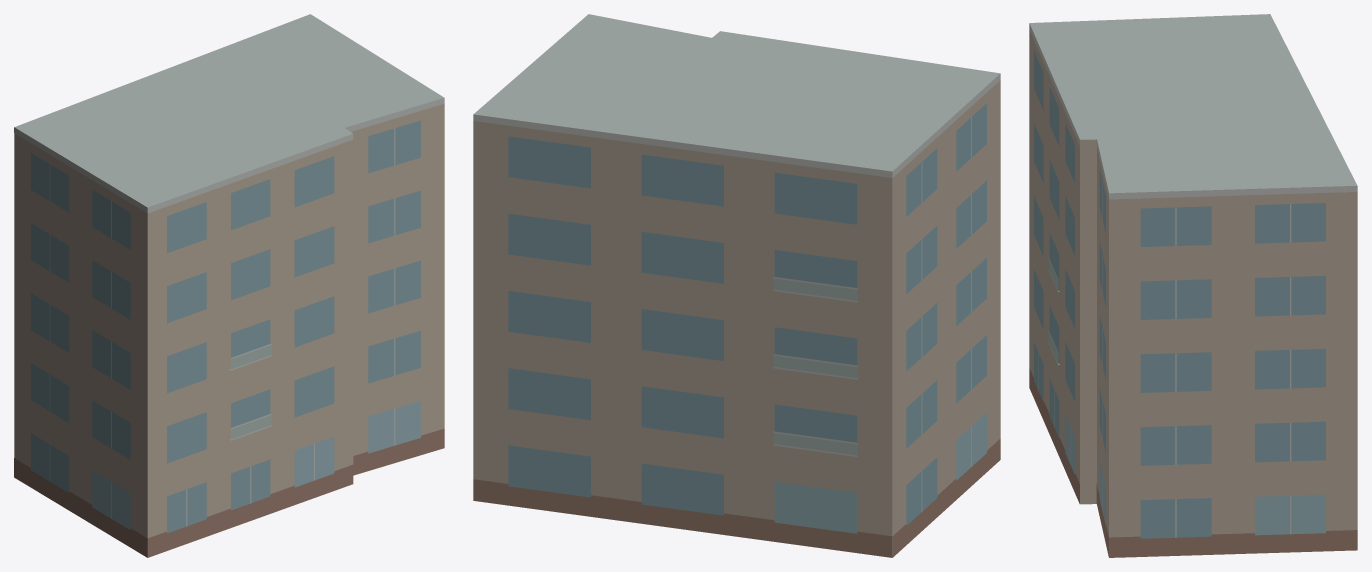
Rendered from survey-upis-32960786.glb.
The picture shows the model from 3 angles, left to right: view 1: azimuth 30°, elevation 25°; view 2: azimuth 150°, elevation 25°; view 3: azimuth 270°, elevation 25°; orthographic projection. The views are drawn at different scales.
Visible parts, largest first — view 1: survey-upis-32960786.tmp; view 2: survey-upis-32960786.tmp; view 3: survey-upis-32960786.tmp.
Boxes of the visible parts, bbox=[...] form: survey-upis-32960786.tmp: bbox=[14, 14, 444, 557]; survey-upis-32960786.tmp: bbox=[473, 14, 1000, 557]; survey-upis-32960786.tmp: bbox=[1029, 14, 1357, 557].
Size of the model in its own units: 15.3 by 14.5 by 11.84.
